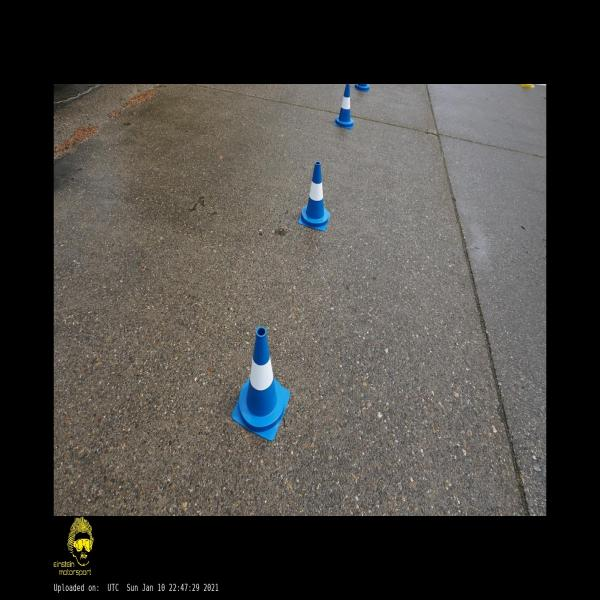blue_cone: (231, 326, 291, 440), (298, 161, 330, 231), (334, 84, 354, 128), (355, 84, 371, 92)
